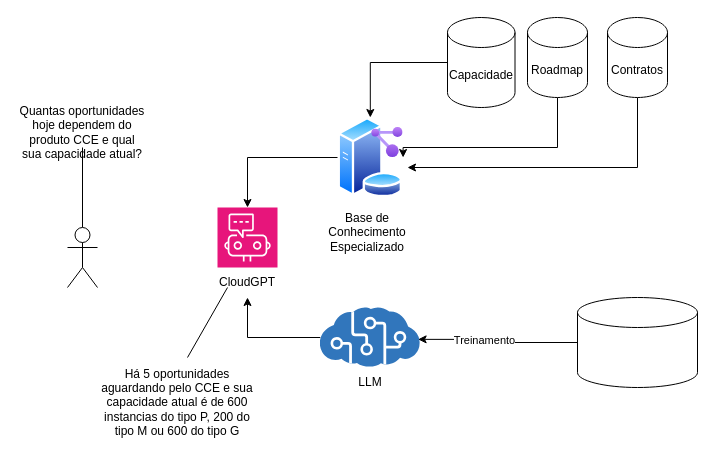
This 715x456 diagram has some shape labels left out. The shapes that lost their labels are listed below. From the top down, each one's centre as x and y in pixels, then its label:
the point at 82,257: Gestor
the point at 637,342: Conhecimento da Tecnologia e Plataformas
